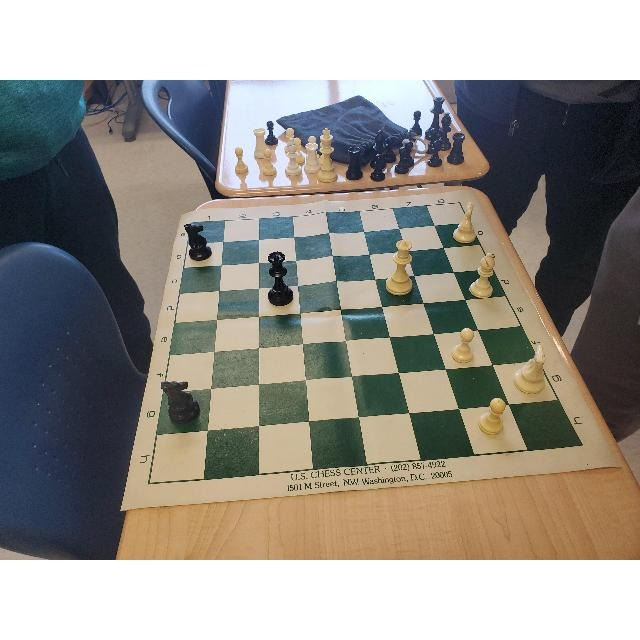black-knight: (158, 380, 201, 424), (183, 222, 215, 262)
black-queen: (264, 252, 296, 308)
white-bishop: (469, 252, 497, 300)
white-knight: (512, 344, 548, 396), (452, 199, 478, 244)
white-pawn: (449, 326, 477, 366), (478, 396, 506, 435)
white-queen: (385, 240, 415, 298)
